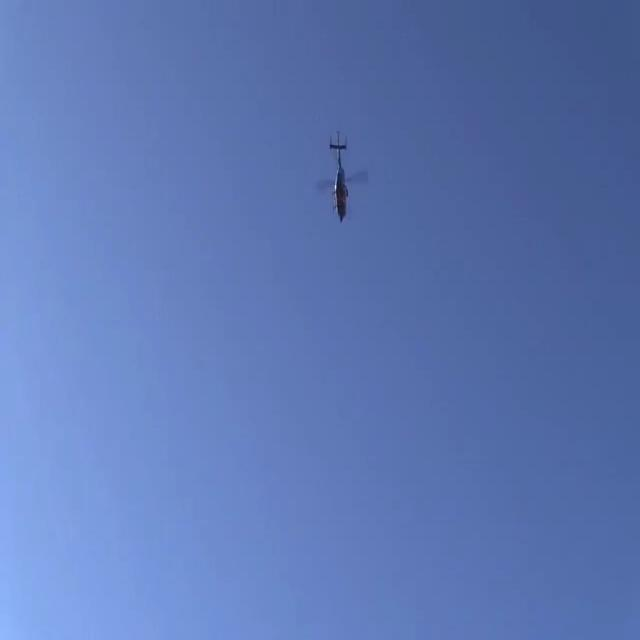Helicopter: (310, 128, 374, 230)
